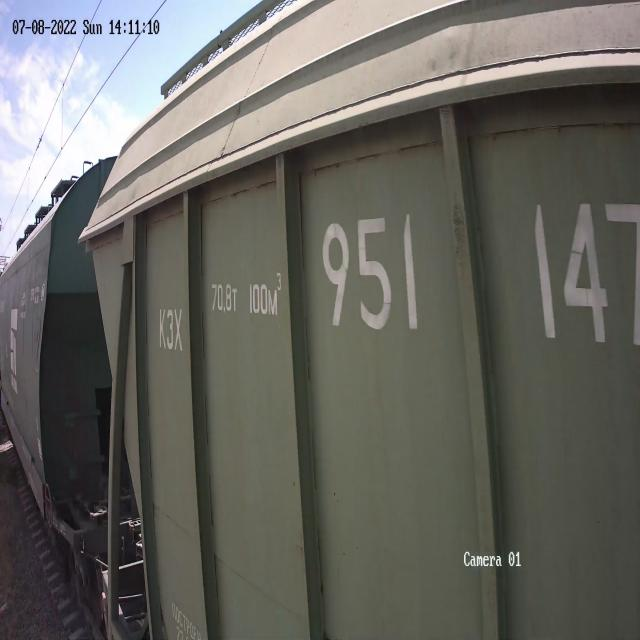hopper: (71, 0, 640, 640), (0, 144, 124, 575)
